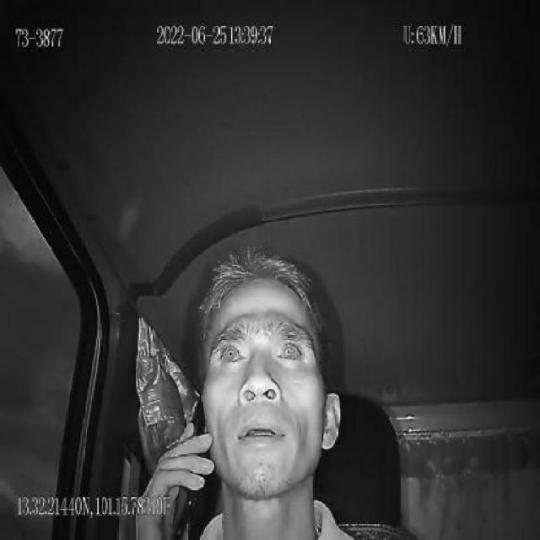phone: (168, 395, 206, 540)
